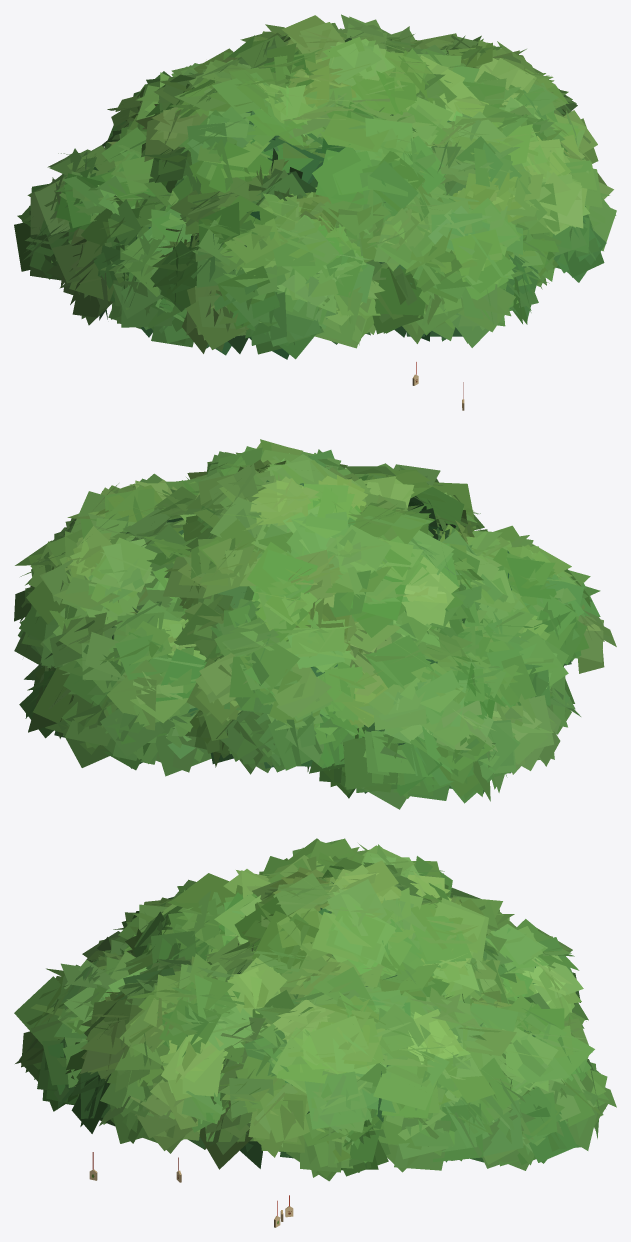
Rendered from poi-wishtree-1.glb.
3 views of the same model, one above another, from view 1: azimuth 30°, elevation 25°; view 2: azimuth 150°, elevation 25°; view 3: azimuth 270°, elevation 25° (orthographic). The views are drawn at different scales.
Visible parts, largest first — view 1: cards_round; view 2: cards_round; view 3: cards_round.
Boxes of the visible parts, left/top/right/bottom form: cards_round: left=14, top=14, right=616, bottom=359; cards_round: left=14, top=439, right=616, bottom=809; cards_round: left=14, top=838, right=616, bottom=1181.
Bounding box in the file's own units: 12.45 × 7.09 × 12.32.
